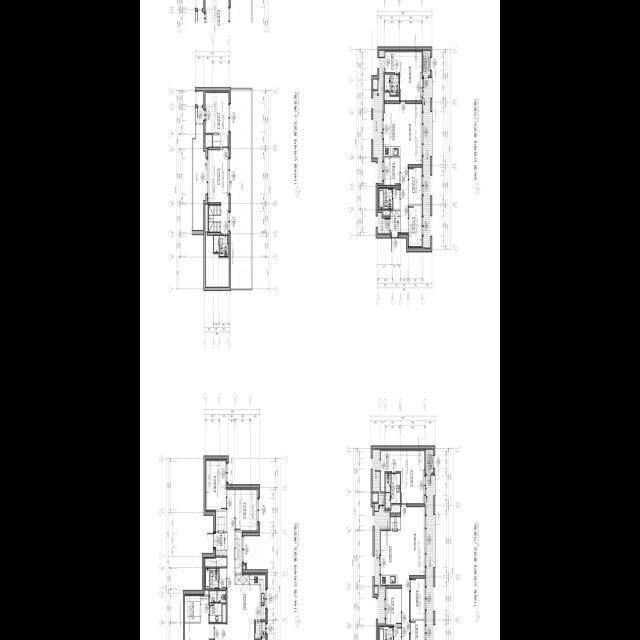background: (140, 0, 500, 640)
space_balconi: (374, 495, 390, 624), (373, 50, 384, 183), (423, 77, 431, 247), (426, 475, 434, 640), (373, 449, 380, 491), (378, 212, 390, 233), (255, 621, 265, 640)
space_bedroom: (185, 595, 214, 640), (401, 449, 425, 503), (206, 91, 229, 146), (400, 51, 422, 100), (206, 459, 226, 509), (235, 488, 258, 530), (411, 578, 425, 619), (386, 588, 401, 624), (409, 205, 422, 246), (409, 167, 422, 203)
space_dressroom: (381, 449, 401, 493), (185, 595, 200, 621), (385, 51, 400, 72)
space_front: (215, 532, 227, 555), (391, 210, 401, 232)
space_kitchen: (235, 574, 265, 619), (381, 530, 401, 584), (384, 103, 401, 156)
space_living_room: (215, 488, 254, 640), (401, 506, 425, 640), (401, 103, 422, 232), (208, 149, 228, 233)
space_other: (231, 90, 251, 288), (193, 107, 206, 230), (206, 235, 229, 286), (384, 157, 400, 184), (209, 204, 221, 232), (235, 532, 242, 573), (411, 620, 425, 640), (215, 511, 226, 531), (205, 557, 226, 566), (393, 188, 400, 208), (220, 568, 227, 588), (390, 516, 400, 529), (385, 92, 399, 100), (394, 626, 401, 640), (213, 134, 221, 146), (205, 203, 208, 232), (197, 91, 203, 105), (205, 134, 212, 146), (390, 504, 400, 512), (373, 493, 378, 501), (373, 79, 377, 88), (374, 586, 378, 593), (383, 210, 390, 214), (204, 590, 209, 594), (244, 565, 245, 569)
space_outdoor_room: (423, 50, 430, 75), (426, 449, 433, 473)
space_toilet: (385, 473, 400, 508), (210, 590, 226, 622), (385, 74, 399, 94), (214, 235, 228, 255), (205, 568, 219, 588), (379, 188, 392, 208), (379, 626, 393, 640)
